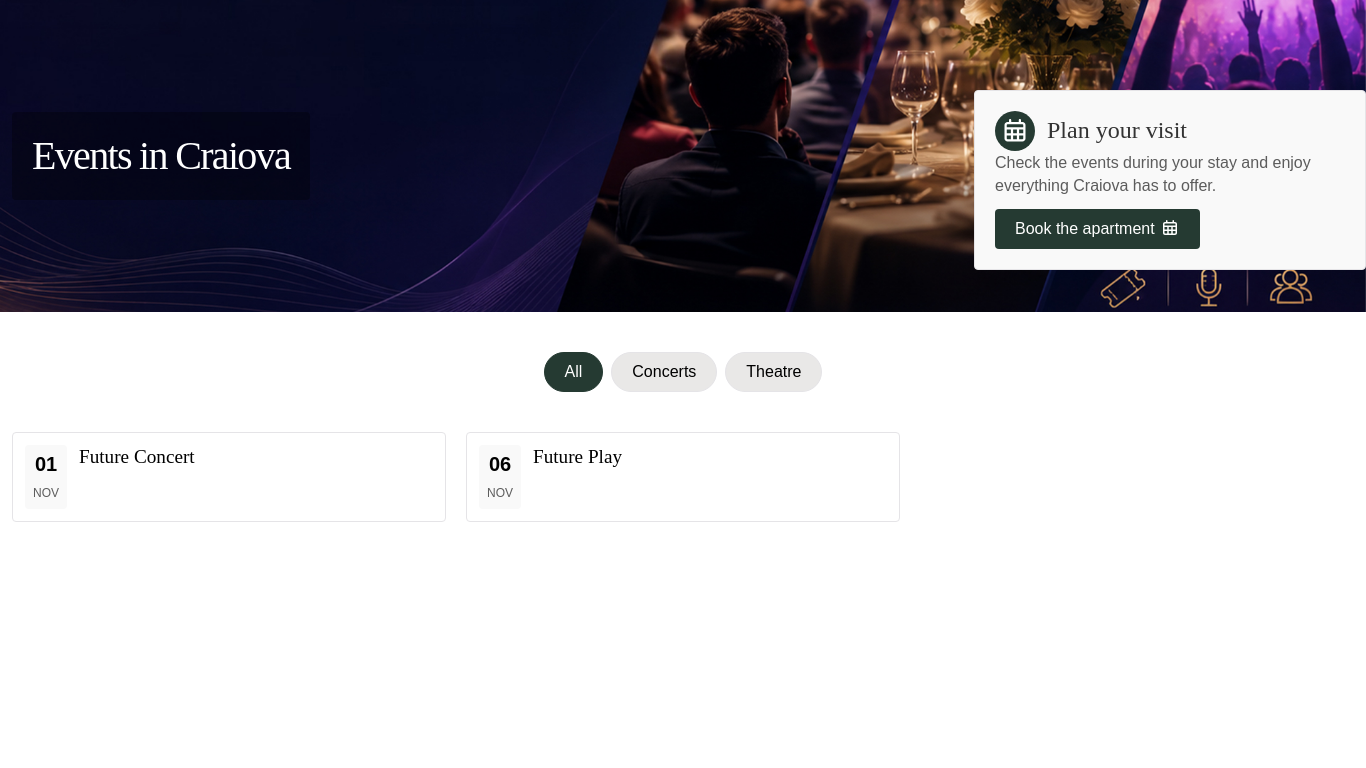
Test: Events page › filters upcoming events when a category tab is clicked
Expected: the text "Future Concert" is shown, [79, 445, 195, 468]
Expected: the text "Future Play" is shown, [533, 445, 622, 468]
Click the button "Concerts".
click(664, 372)  # box [611, 352, 717, 392]
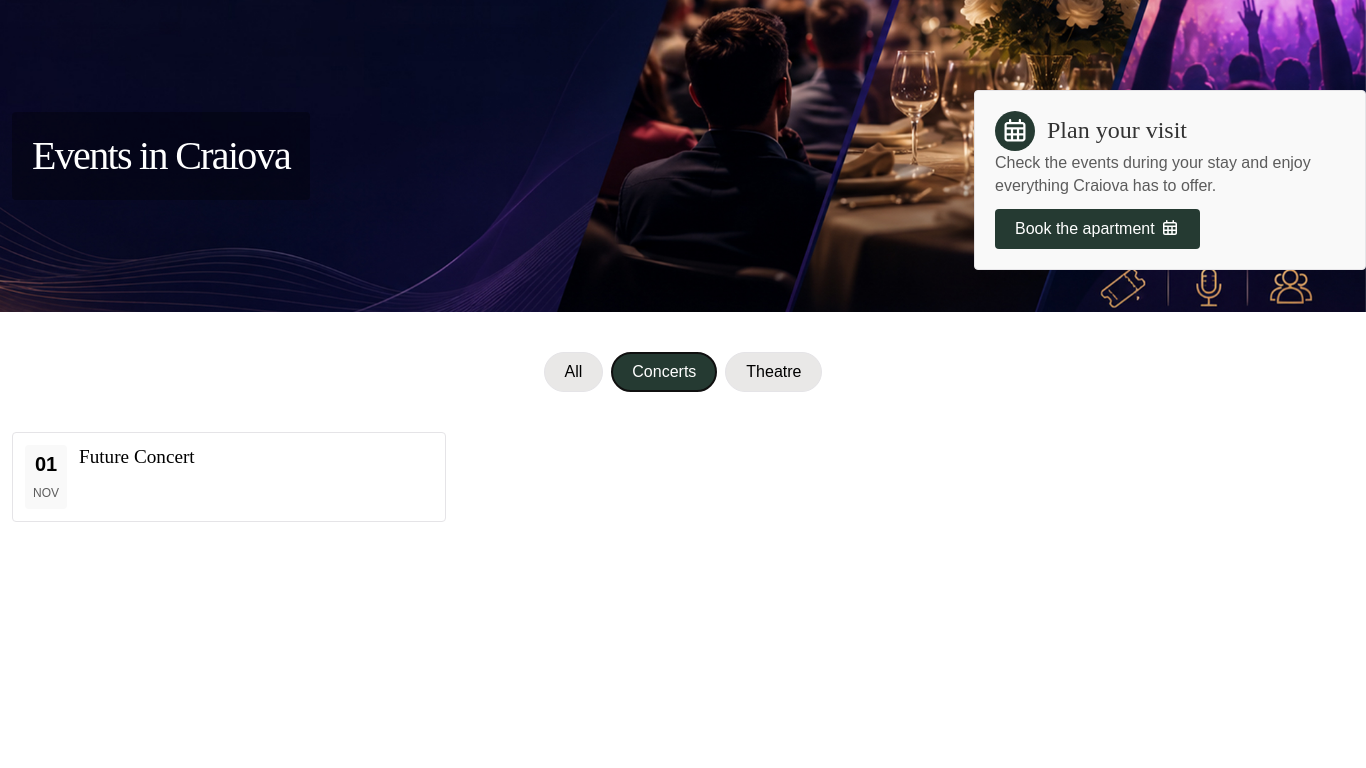
Expected: the text "Future Concert" is shown, [79, 445, 195, 468]
Result: the text "Future Play" is gone
